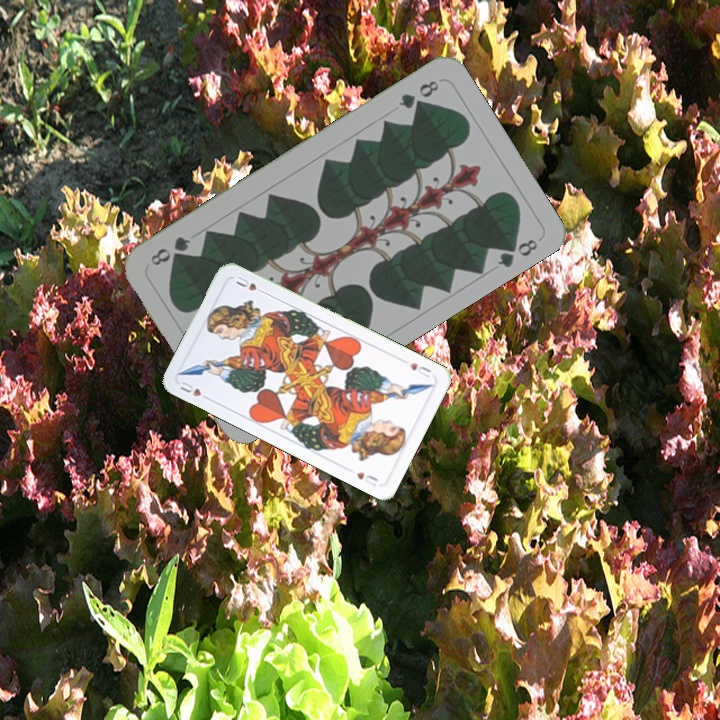G8: (394, 76, 442, 112)
HU: (176, 377, 213, 403), (405, 358, 434, 380)
